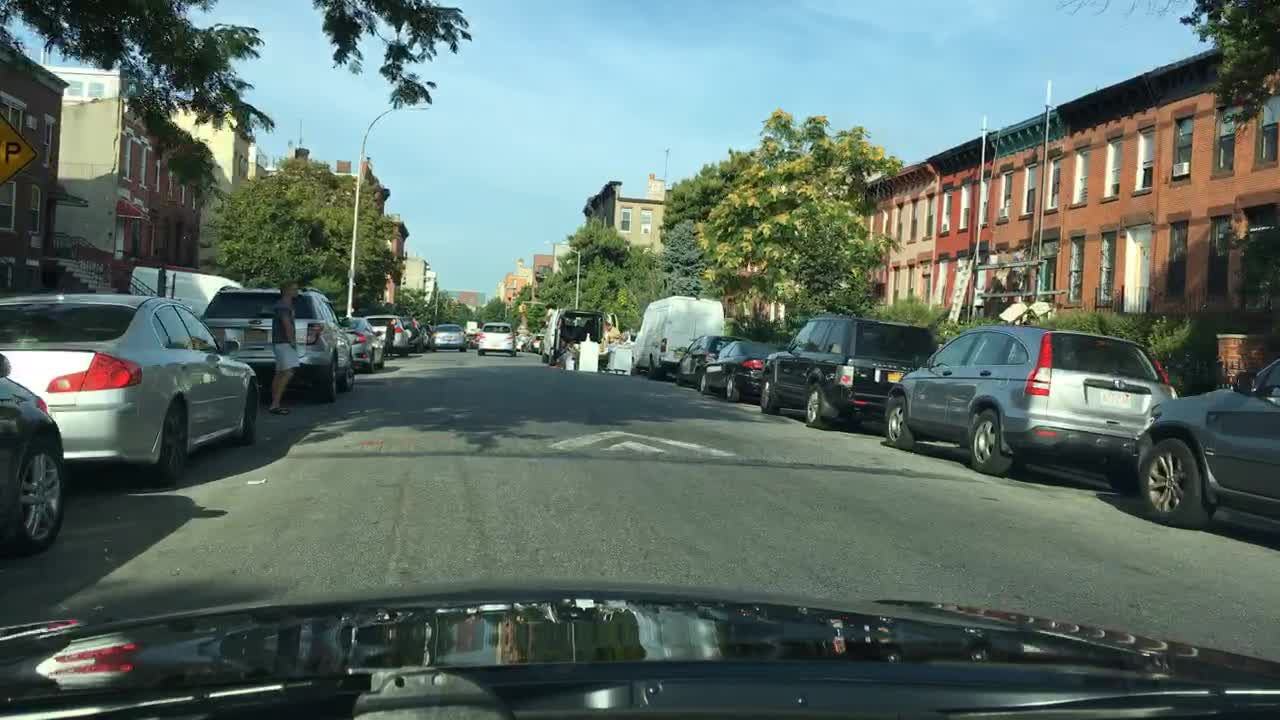car: (0, 293, 259, 483), (882, 325, 1179, 477), (1135, 350, 1278, 539), (758, 313, 940, 433), (197, 284, 354, 404), (1, 352, 69, 558), (632, 295, 723, 378), (698, 336, 786, 405), (672, 332, 750, 390), (540, 308, 602, 369), (336, 313, 387, 373), (360, 313, 408, 355), (475, 320, 516, 358), (426, 321, 467, 352), (401, 314, 425, 354), (601, 310, 619, 344), (527, 332, 543, 354), (419, 322, 431, 349), (468, 329, 479, 349), (515, 331, 524, 350), (462, 329, 474, 342)
person: (267, 279, 305, 416), (381, 317, 397, 359)
traffic sign: (0, 109, 39, 191), (517, 303, 528, 313)
